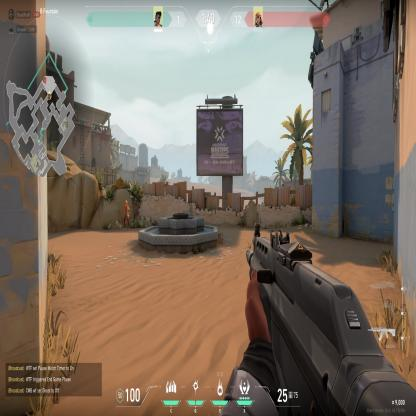enemy: (122, 200, 130, 232)
